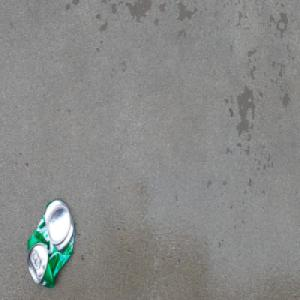SodaCan: (25, 196, 76, 290)
